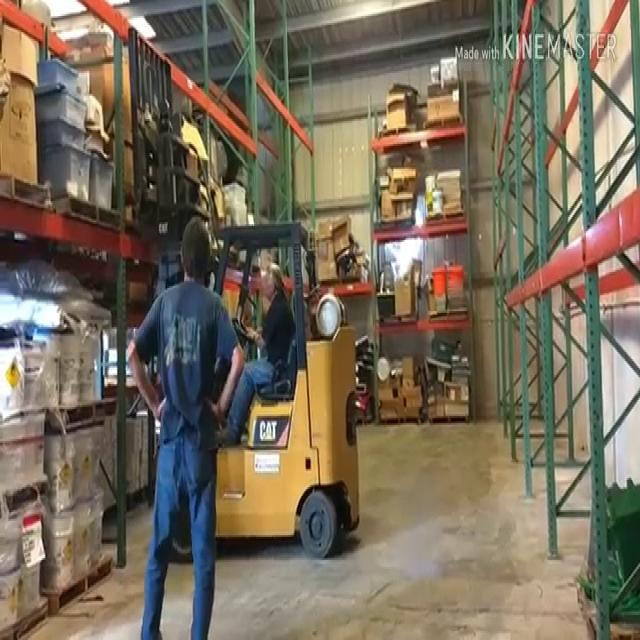Chariot elevateur: (200, 222, 364, 553)
